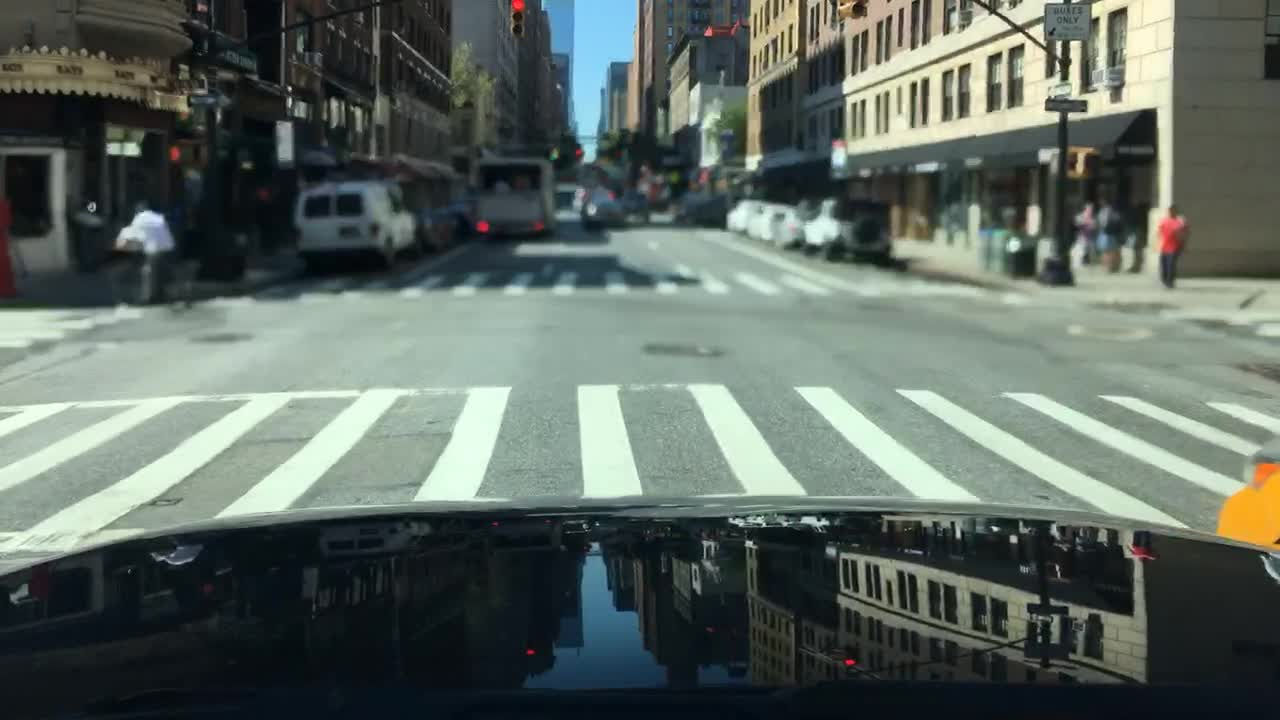bike: (100, 251, 195, 312)
car: (290, 173, 421, 274), (802, 197, 893, 266), (676, 191, 740, 228), (777, 198, 820, 247), (578, 182, 620, 230), (743, 202, 789, 244), (414, 208, 450, 252), (723, 199, 768, 233), (619, 190, 652, 226), (554, 180, 578, 221), (449, 203, 468, 242)
person: (1154, 202, 1190, 287), (1091, 199, 1125, 270), (1070, 203, 1095, 267)
rider: (113, 199, 179, 311)
traffic light: (1076, 146, 1102, 179), (509, 0, 527, 45), (836, 0, 868, 18), (168, 144, 192, 163), (575, 140, 583, 160), (550, 146, 560, 162)
traffic sign: (1042, 2, 1091, 41), (272, 119, 297, 164), (1046, 98, 1088, 114), (832, 137, 848, 172), (187, 92, 215, 106), (1049, 82, 1075, 97)
truck: (467, 154, 556, 236)
